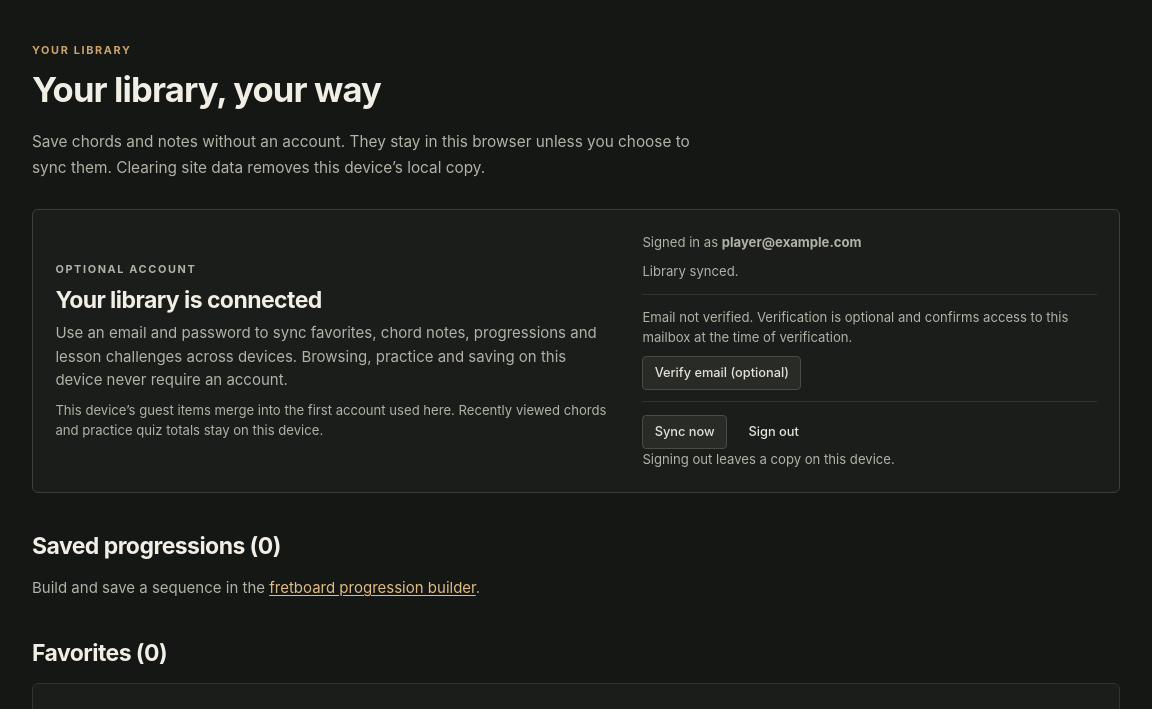
Scenario: optional account onboarding › offers optional email verification only after sign-in and requests a link for the current account
Expected: the text "Email not verified" is shown, [642,309,1068,345]
Click the button "Verify email (optional)": [722, 373] box [642,356,801,390]
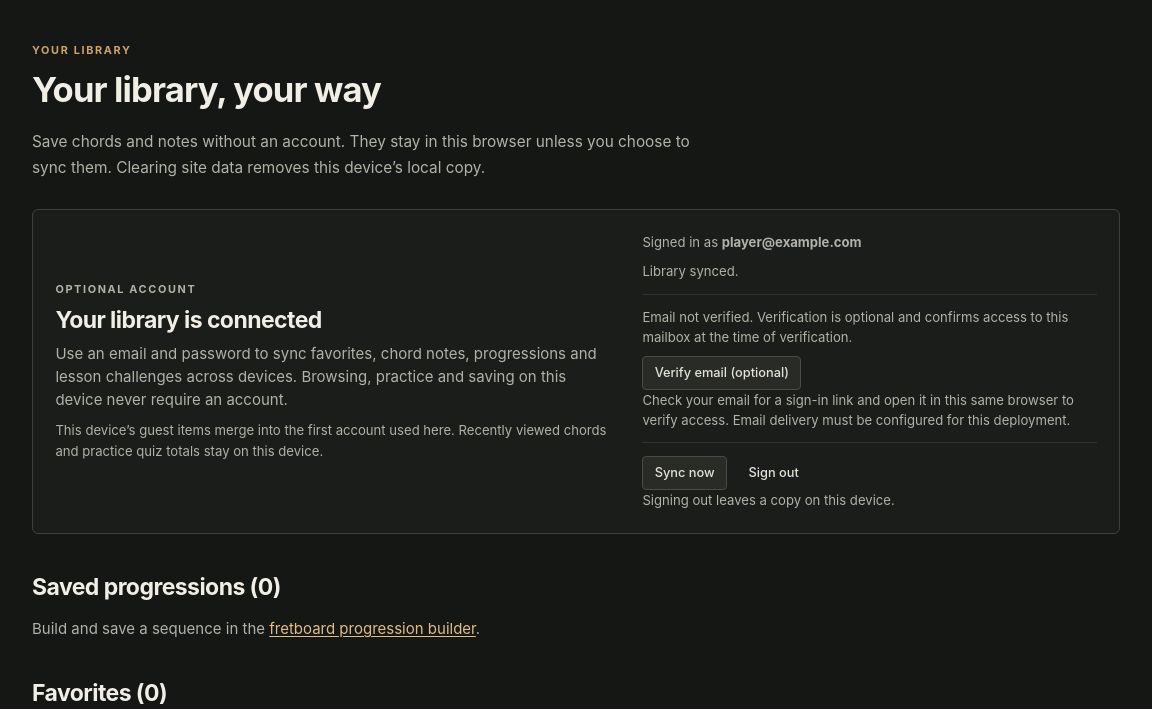
Expected: the text "Email delivery must be configured" is shown, [642,392,1074,428]
